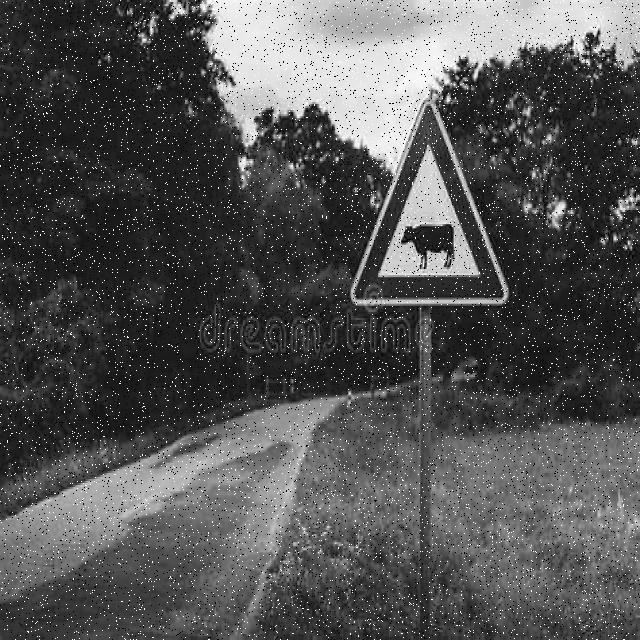cattle: (340, 92, 511, 330)
